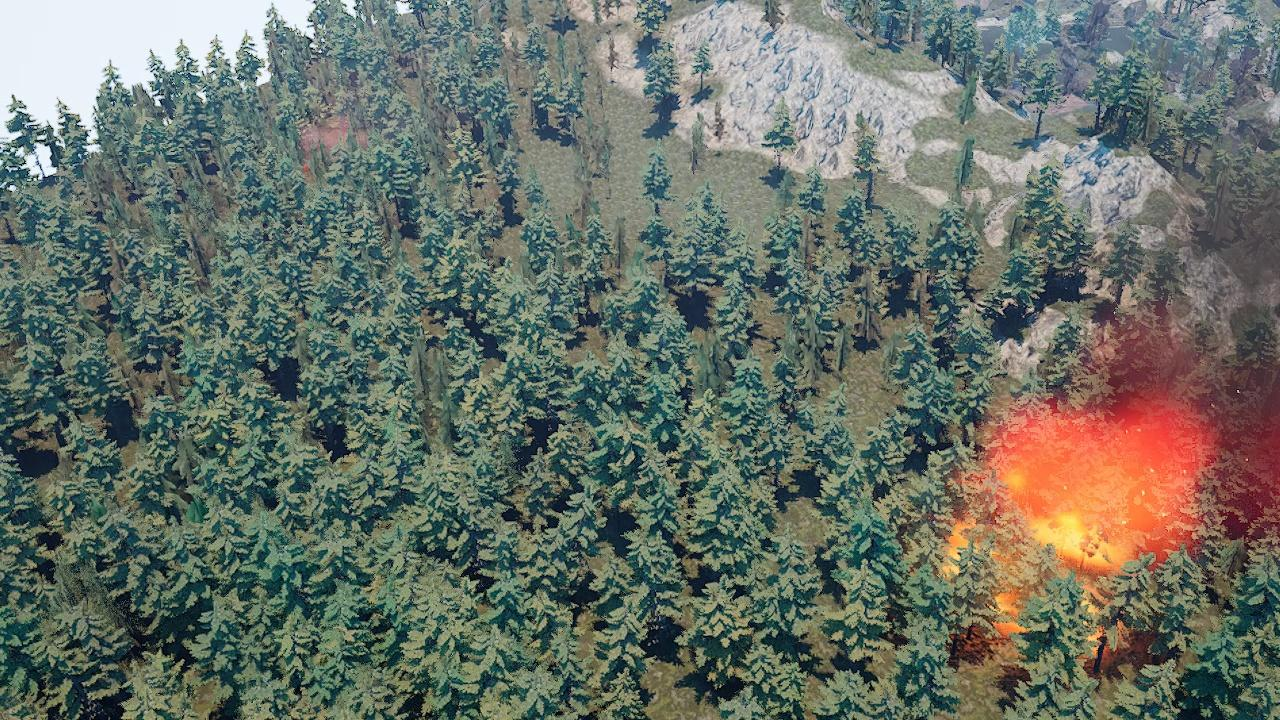fire: (922, 395, 1221, 651)
smoke: (973, 128, 1279, 561), (302, 112, 359, 167)
